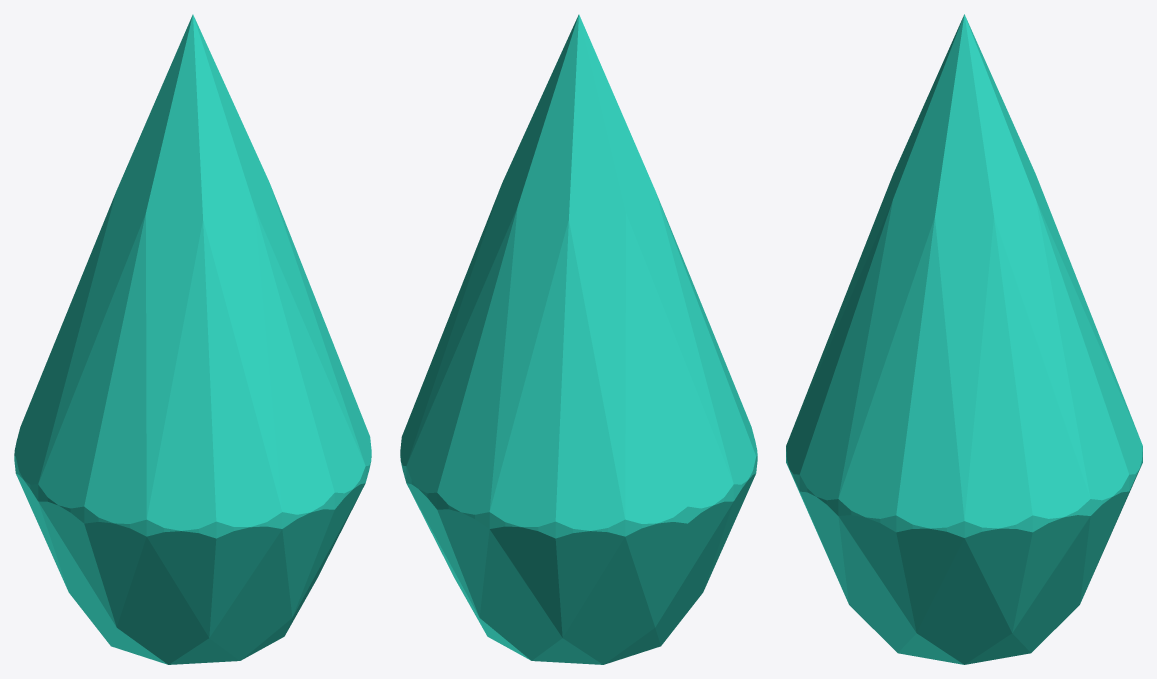
File: main_element.fbx
3 renders of one model, left to right at view 1: azimuth 30°, elevation 25°; view 2: azimuth 150°, elevation 25°; view 3: azimuth 270°, elevation 25°, orthographic.
Visible parts, largest first — view 1: dobj; view 2: dobj; view 3: dobj.
Boxes of the visible parts, x1,y1,x2,y2 form: dobj: [14, 14, 371, 664]; dobj: [400, 14, 757, 664]; dobj: [786, 14, 1142, 664].
Bounding box in the file's own units: 61.91 × 117 × 61.91.
